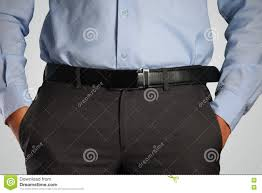F_belt: (32, 56, 227, 97)
